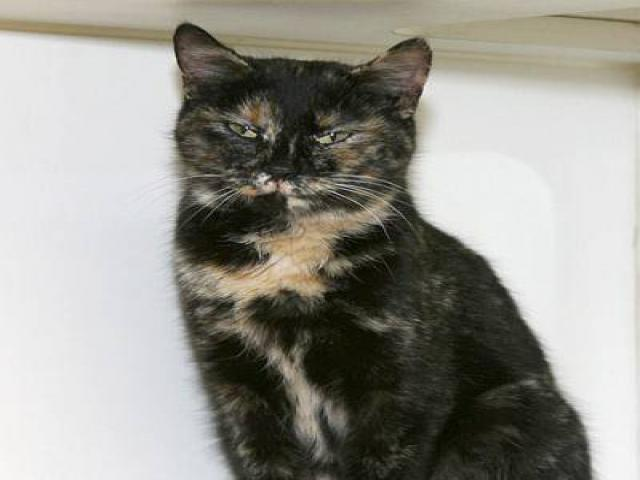cat: (166, 22, 605, 478)
